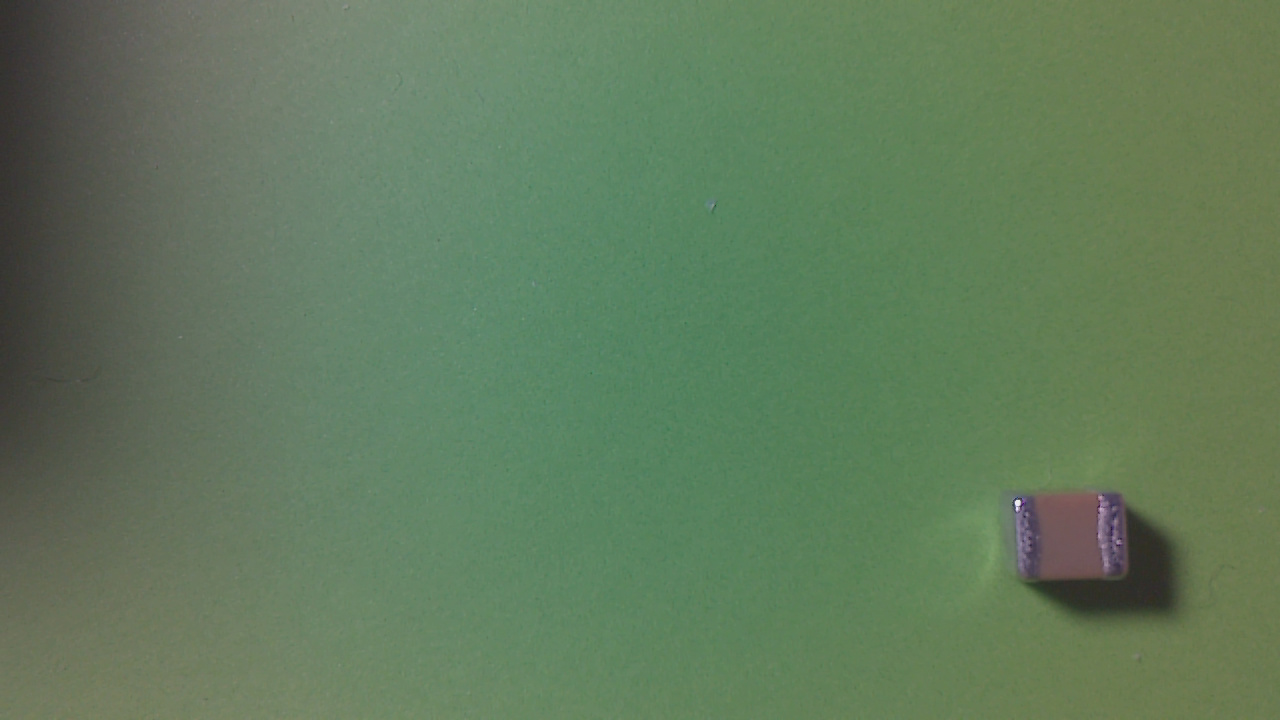Condensator: (1017, 488, 1134, 589)
